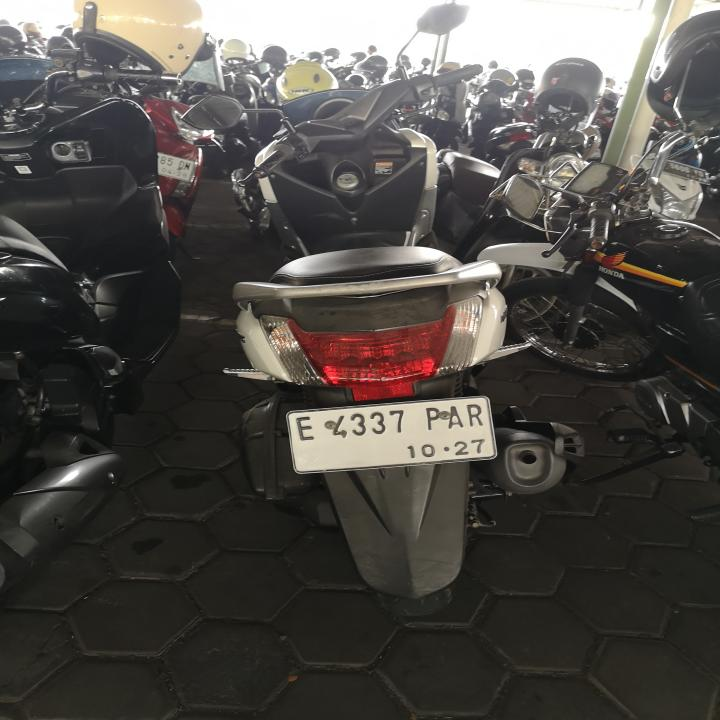plate: (283, 391, 500, 472)
